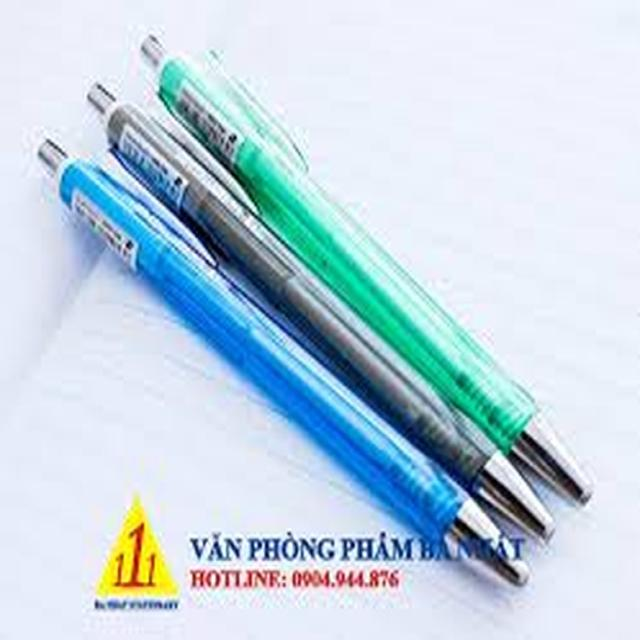pen: (48, 10, 600, 603)
